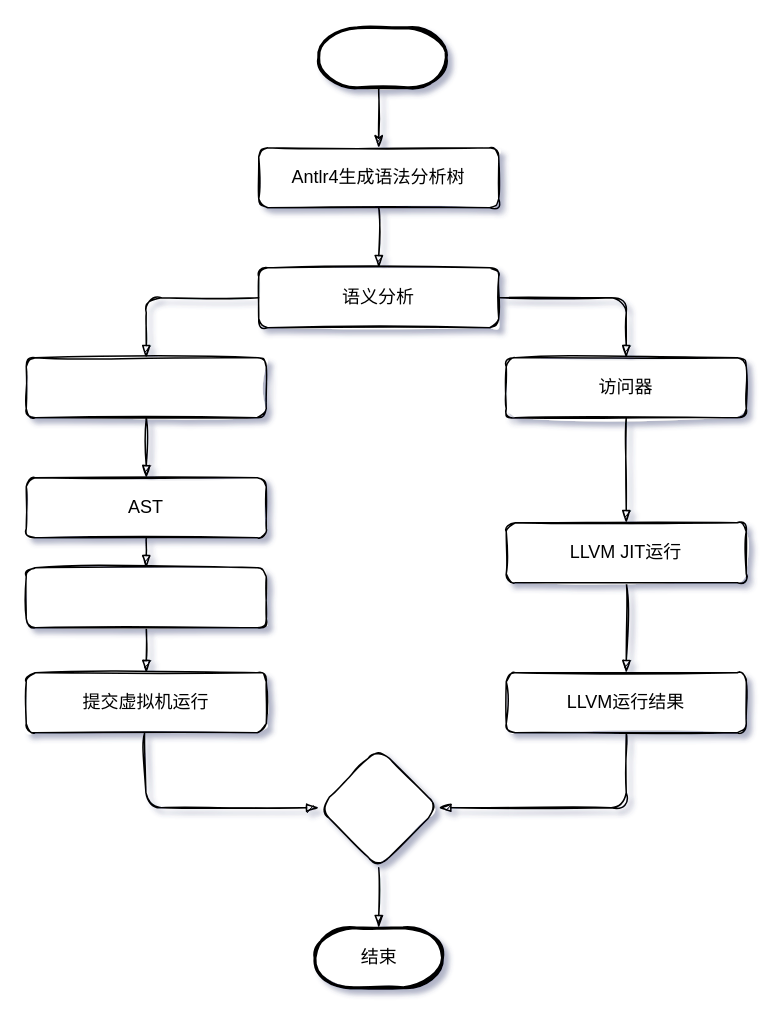
This 782x1023 diagram has some shape labels left out. Here are the shapes that lost their labels. From the top down, the centre of each, then its label:
At pixel 381 57: "开始".
At pixel 145 387: "监听器".
At pixel 145 597: "虚拟机代码".
At pixel 378 807: "相等?".
